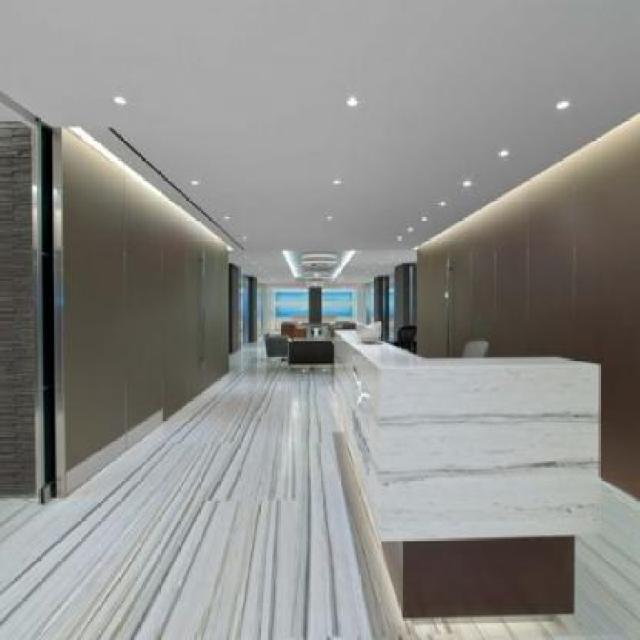frontdesk: (318, 316, 607, 640)
